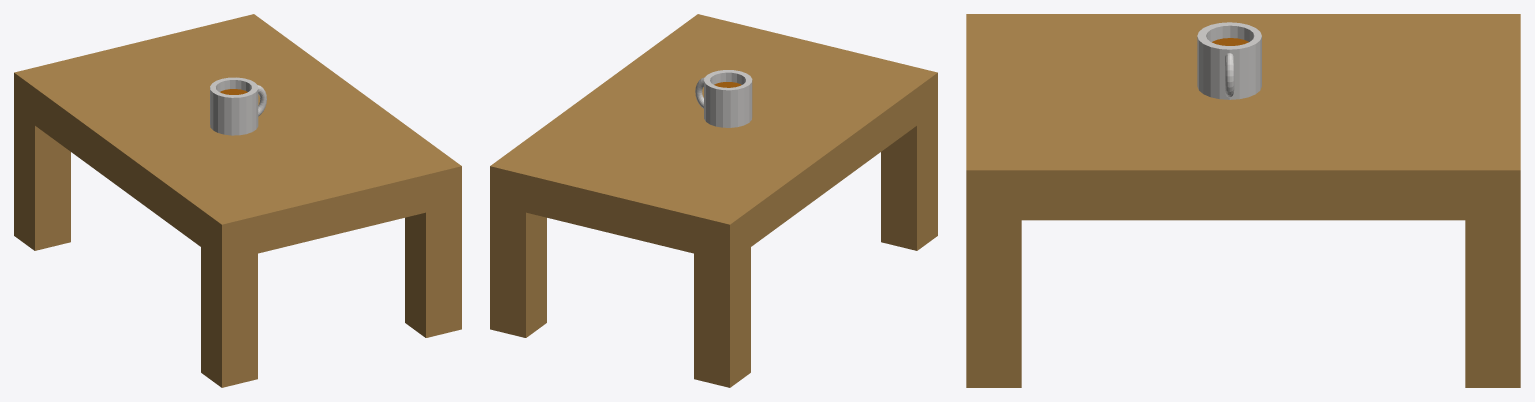
Rendered from Brave Waasa-Bigery.glb.
The picture shows the model from 3 angles, left to right: view 1: azimuth 30°, elevation 25°; view 2: azimuth 150°, elevation 25°; view 3: azimuth 270°, elevation 25°; orthographic projection. The views are drawn at different scales.
Visible parts, largest first — view 1: Mesh_Mesh_head_geo.001_lambert2SG.001; view 2: Mesh_Mesh_head_geo.001_lambert2SG.001; view 3: Mesh_Mesh_head_geo.001_lambert2SG.001.
Part boxes in pixels (x1,y1,x2,y2): Mesh_Mesh_head_geo.001_lambert2SG.001: [14, 14, 461, 387]; Mesh_Mesh_head_geo.001_lambert2SG.001: [490, 14, 937, 387]; Mesh_Mesh_head_geo.001_lambert2SG.001: [966, 14, 1520, 387].
Bounding box in the file's own units: 40 × 32 × 60.
